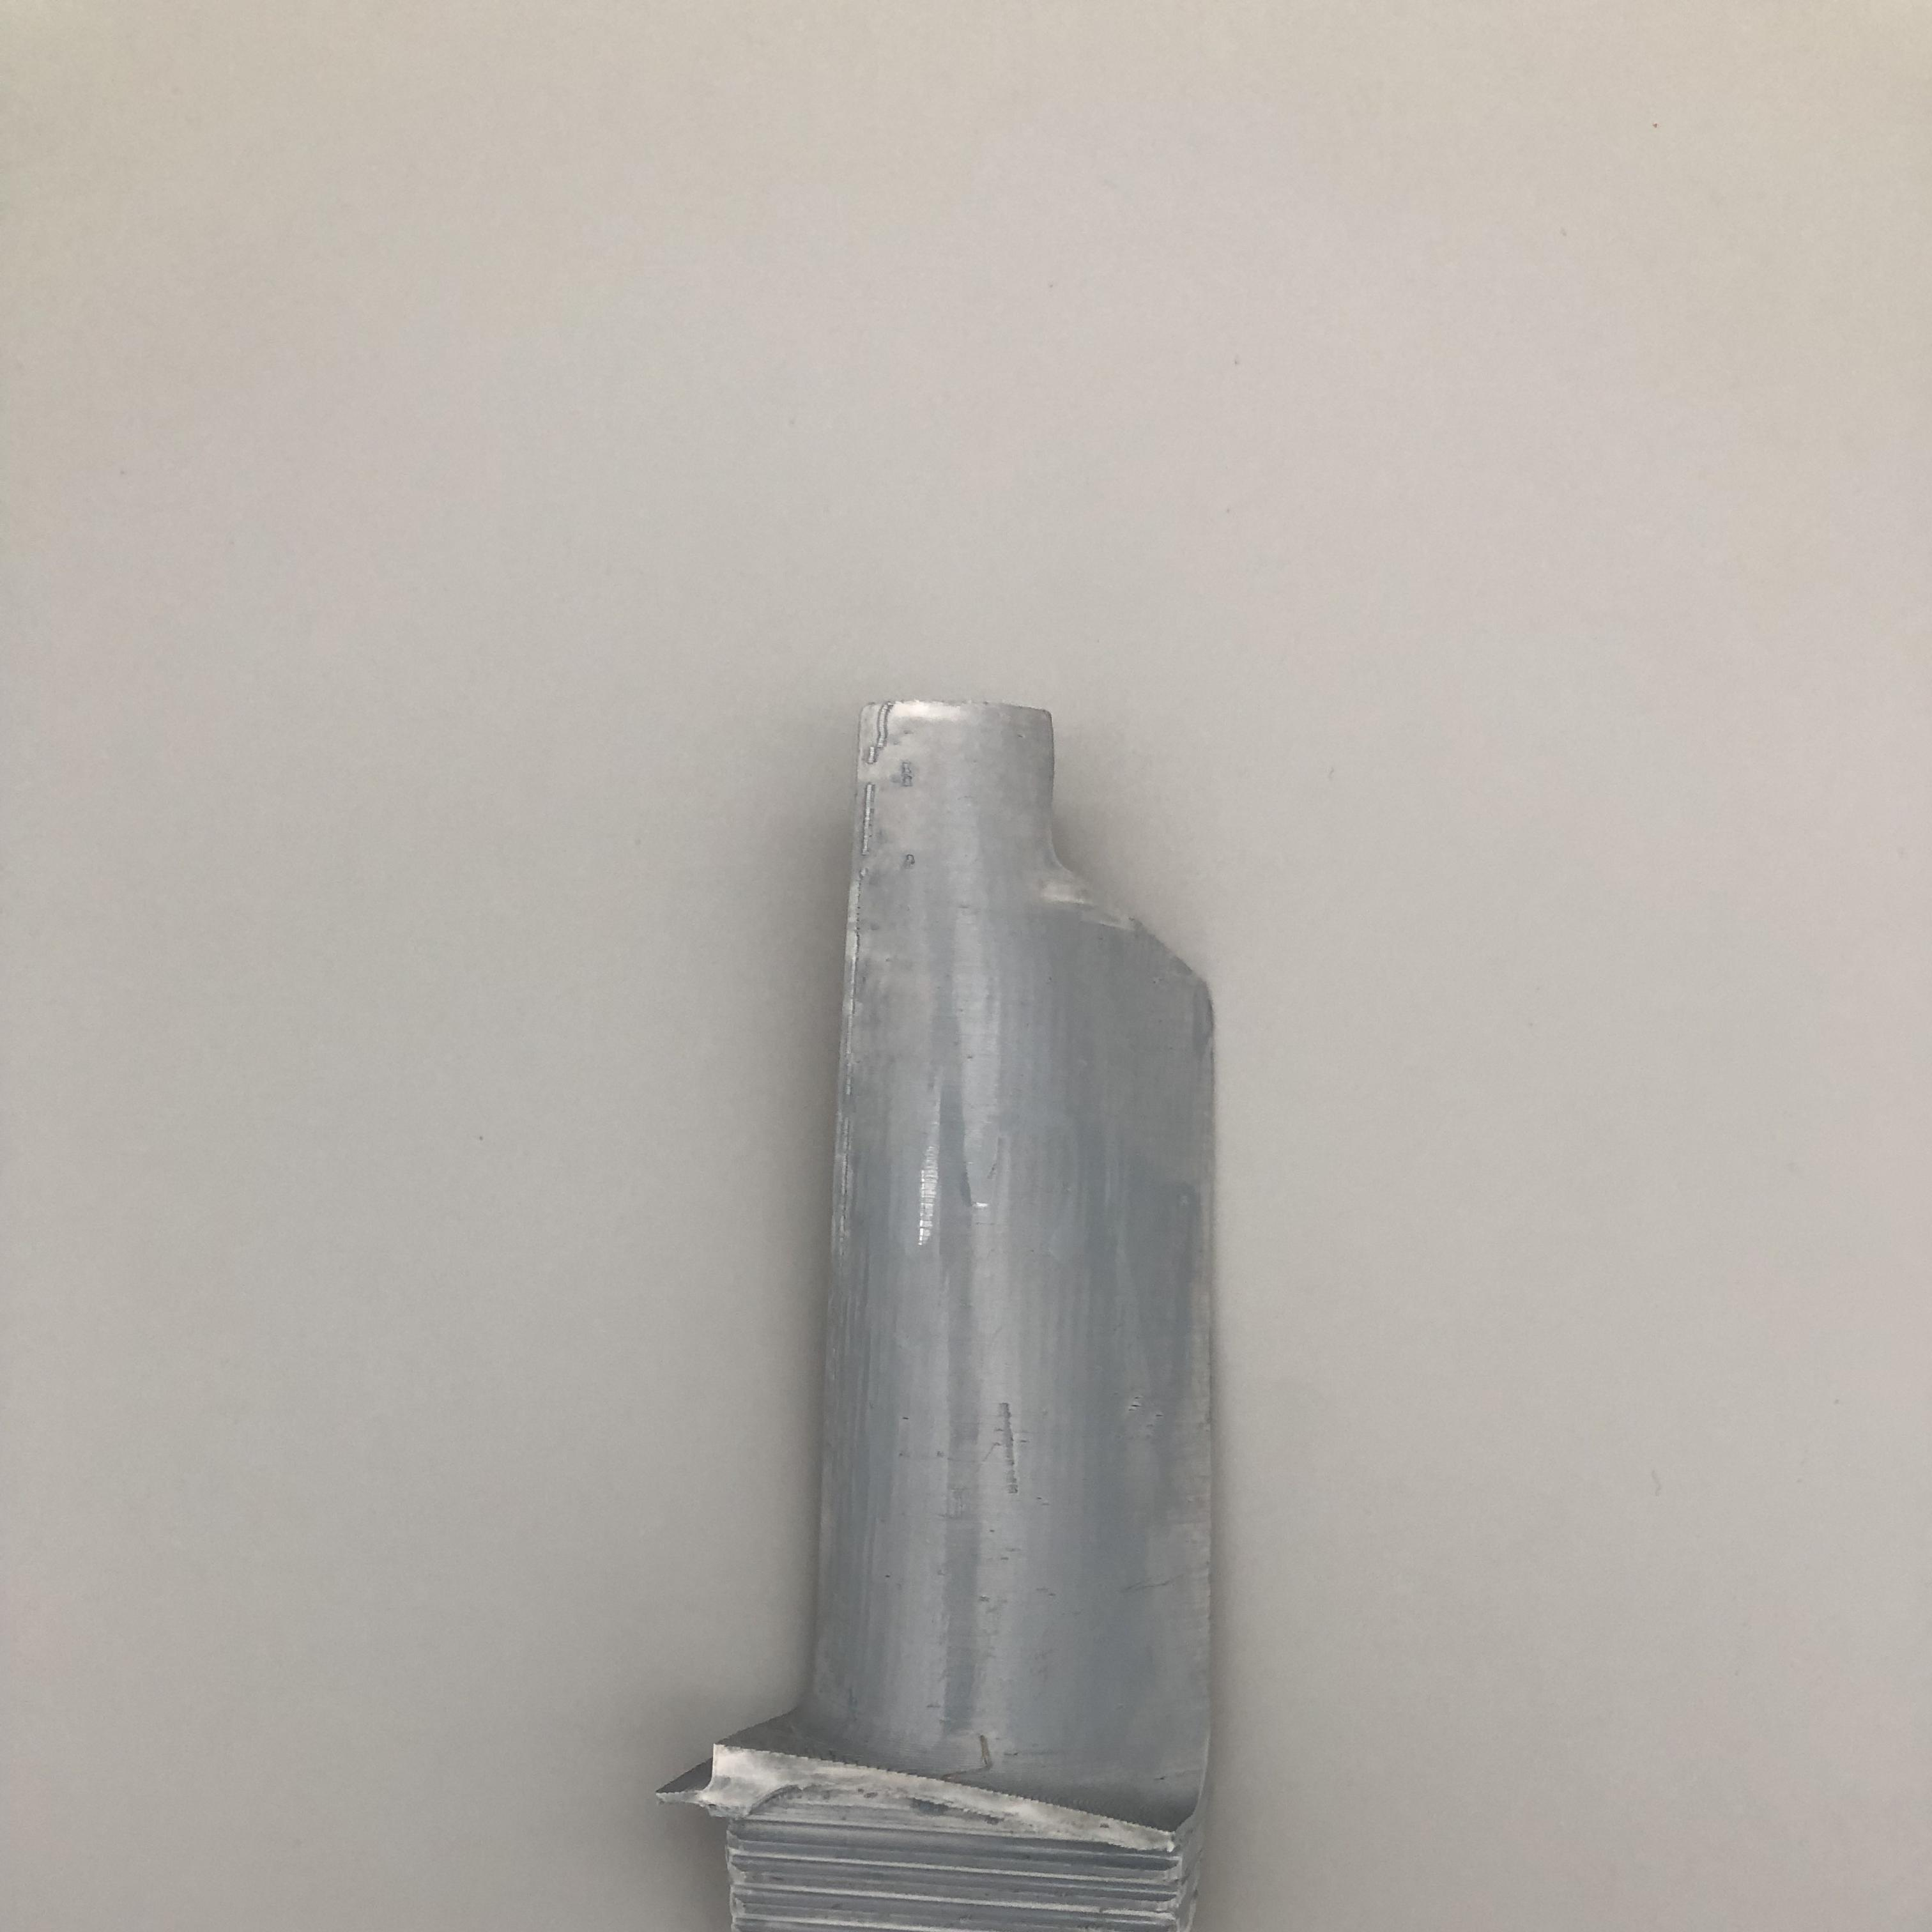fracture: (1021, 713, 1235, 993)
